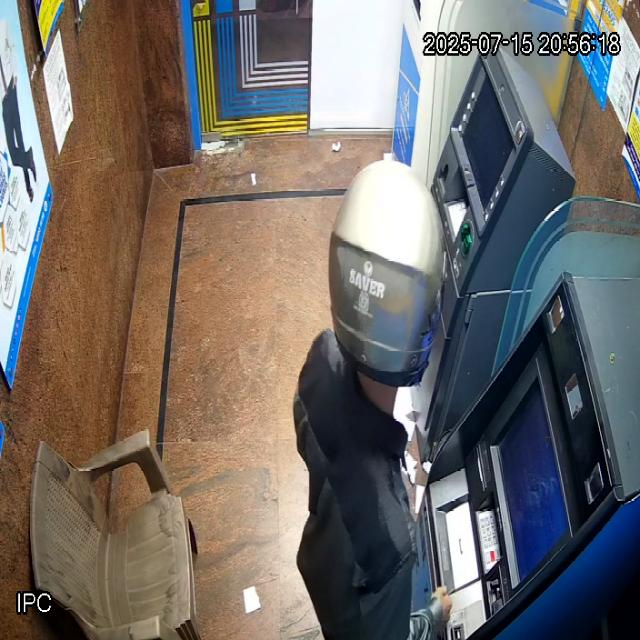helmet: (328, 160, 445, 417)
